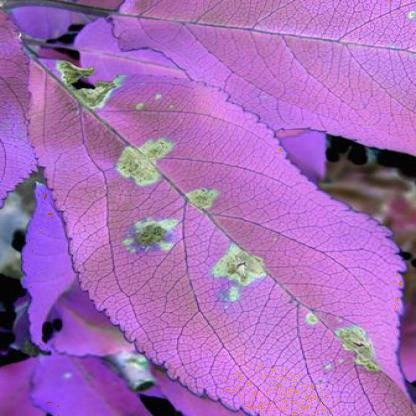apple scab leaf: (28, 58, 415, 410)
